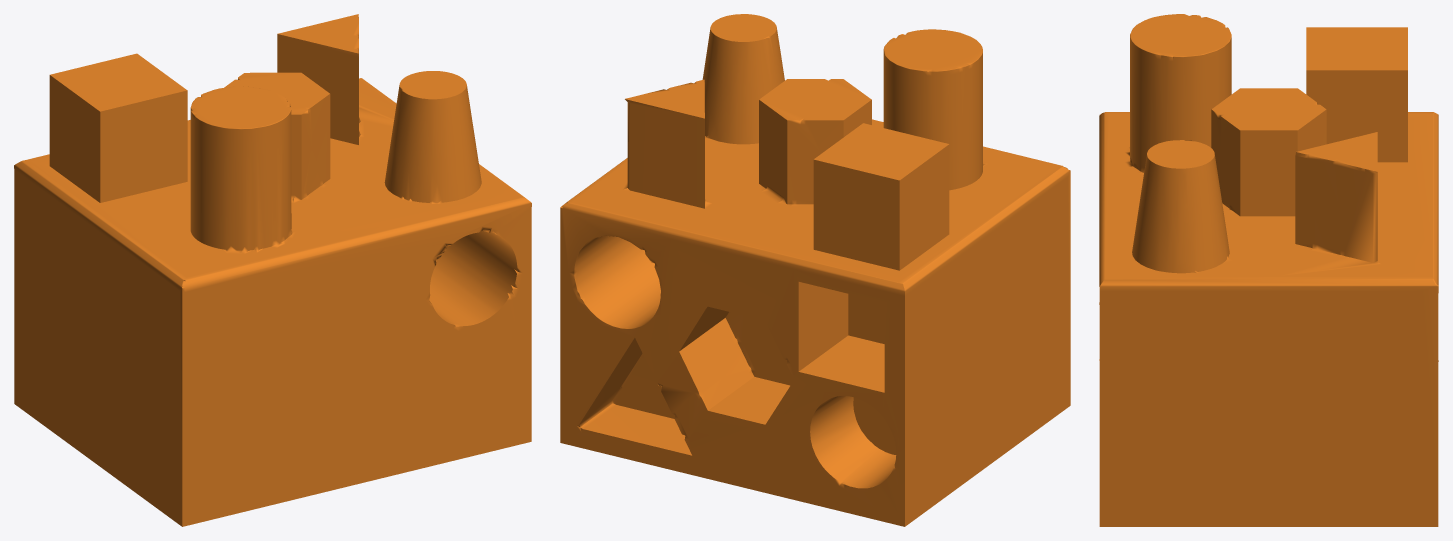
3 views of the same model, side by side, from view 1: azimuth 30°, elevation 25°; view 2: azimuth 150°, elevation 25°; view 3: azimuth 270°, elevation 25° (orthographic). The views are drawn at different scales.
Size of the model in its own units: 1 by 1 by 0.834.
Materials: 1 (1 with a texture image).
